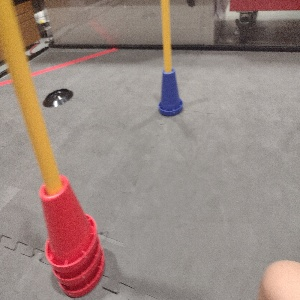Blue_1: (154, 65, 185, 117)
Red_3: (35, 173, 106, 297)
